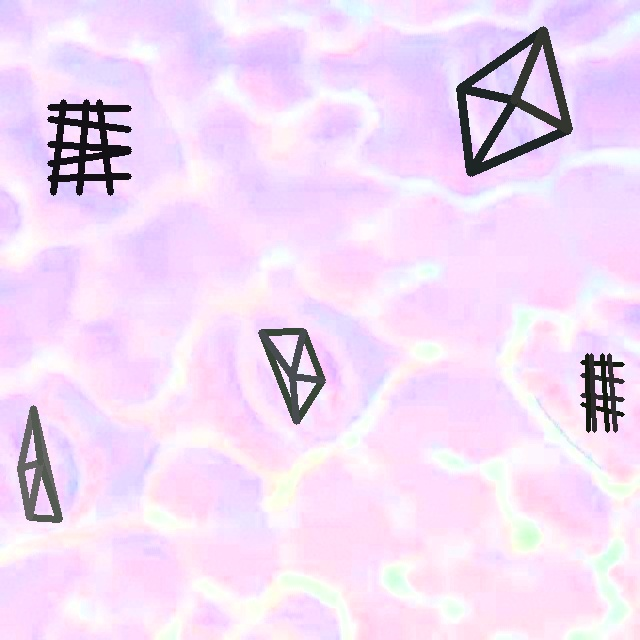close: (47, 100, 131, 194), (258, 328, 325, 424), (580, 353, 624, 432)
open: (457, 26, 571, 175), (17, 405, 62, 520)
